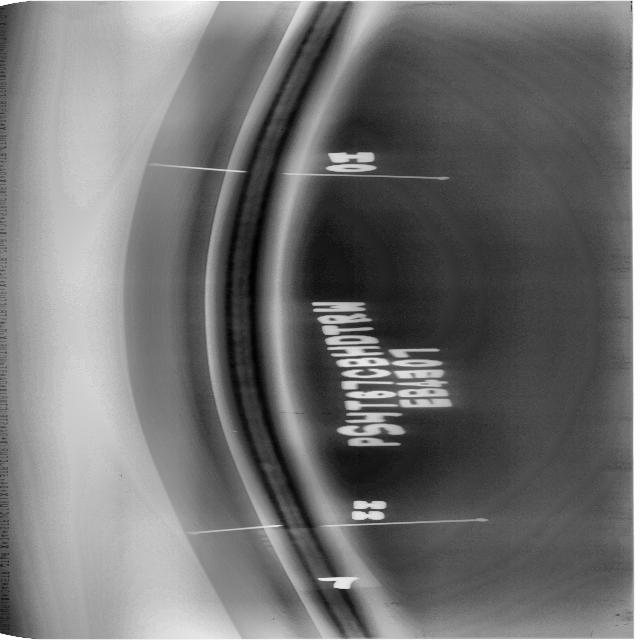porosity: (252, 195, 258, 198), (248, 414, 255, 416)
